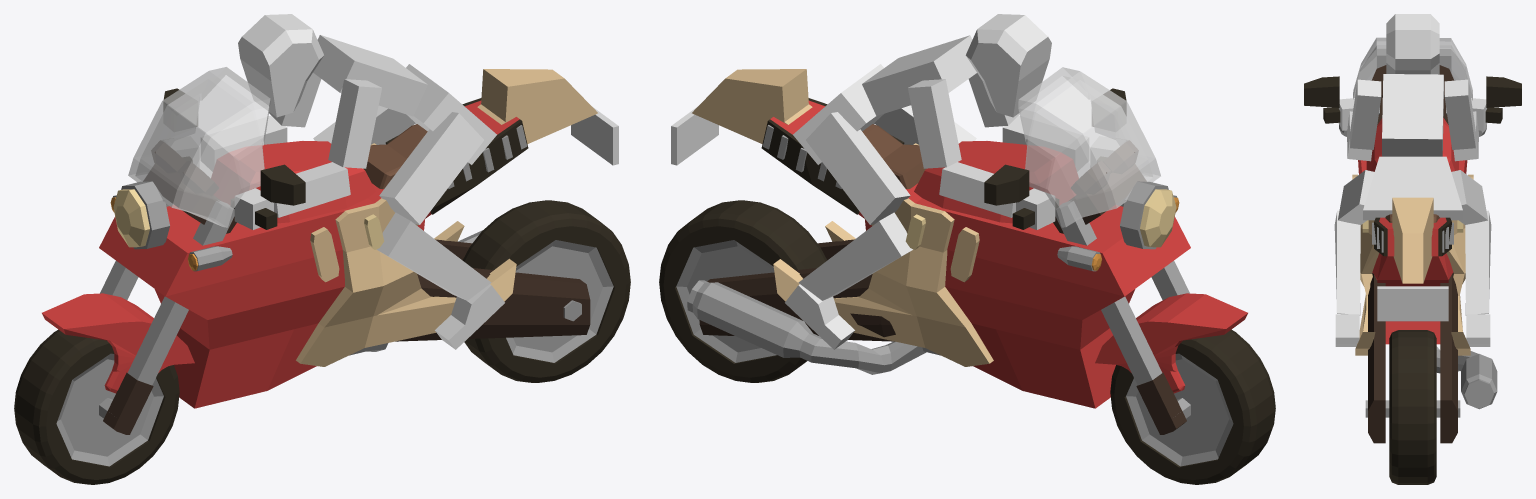
File: Bike-notMoving1.fbx
3 renders of one model, left to right at view 1: azimuth 30°, elevation 25°; view 2: azimuth 150°, elevation 25°; view 3: azimuth 270°, elevation 25°, orthographic. The views are drawn at different scales.
Parts seen in each view (by area): view 1: 立方体.012, 円柱.022, 立方体.013, 円柱.007, 円柱.006, 太もも, 立方体.015, 頭, 円柱.021, 立方体.014, 円柱.008, 円柱.013 (+21 smaller); view 2: 立方体.012, 円柱.022, 立方体.013, 円柱.007, 円柱.006, 円柱.019, 太もも, 頭, 円柱.021, 立方体.014, 円柱.008, 円柱.013 (+22 smaller); view 3: 円柱.007, 立方体.015, 肋骨, ふくらはぎ, 腰, 後腕, 立方体.014, 頭, 立方体.012, 立方体.013, 立方体.016, 太もも (+10 smaller).
Part boxes in pixels (box(x1,y1,x2,y2)): 立方体.012: box(99, 100, 519, 408); 円柱.022: box(128, 67, 270, 227); 立方体.013: box(296, 143, 516, 366); 円柱.007: box(462, 200, 630, 382); 円柱.006: box(14, 329, 179, 484); 太もも: box(313, 105, 483, 224); 立方体.015: box(395, 239, 590, 341); 頭: box(238, 14, 324, 117); 円柱.021: box(56, 353, 163, 466); 立方体.014: box(477, 69, 597, 143); 円柱.008: box(42, 293, 194, 393); 円柱.013: box(211, 141, 375, 223); 立方体.012: box(770, 100, 1190, 408); 円柱.022: box(1018, 67, 1160, 227); 立方体.013: box(773, 143, 993, 366); 円柱.007: box(659, 200, 827, 382); 円柱.006: box(1110, 329, 1275, 484); 円柱.019: box(687, 280, 940, 374); 太もも: box(806, 105, 976, 224); 頭: box(965, 14, 1051, 117); 円柱.021: box(1126, 353, 1233, 466); 立方体.014: box(692, 69, 812, 143); 円柱.008: box(1095, 293, 1247, 393); 円柱.013: box(914, 141, 1078, 223); 円柱.007: box(1389, 330, 1436, 484); 立方体.015: box(1368, 273, 1457, 443); 肋骨: box(1382, 74, 1443, 156); ふくらはぎ: box(1334, 210, 1491, 315); 腰: box(1363, 156, 1462, 220); 後腕: box(1350, 79, 1475, 149); 立方体.014: box(1392, 197, 1433, 283); 頭: box(1386, 14, 1439, 74); 立方体.012: box(1358, 160, 1467, 344); 立方体.013: box(1355, 220, 1470, 355); 立方体.016: box(1377, 286, 1448, 321); 太もも: box(1338, 170, 1487, 224).
Size of the model in its own units: 4927 by 3289 by 1838.
